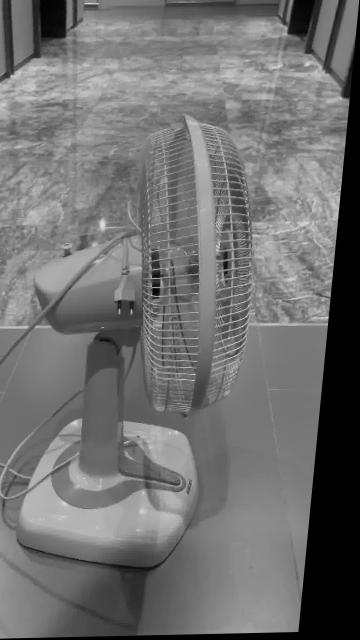Fan: (28, 116, 258, 572)
